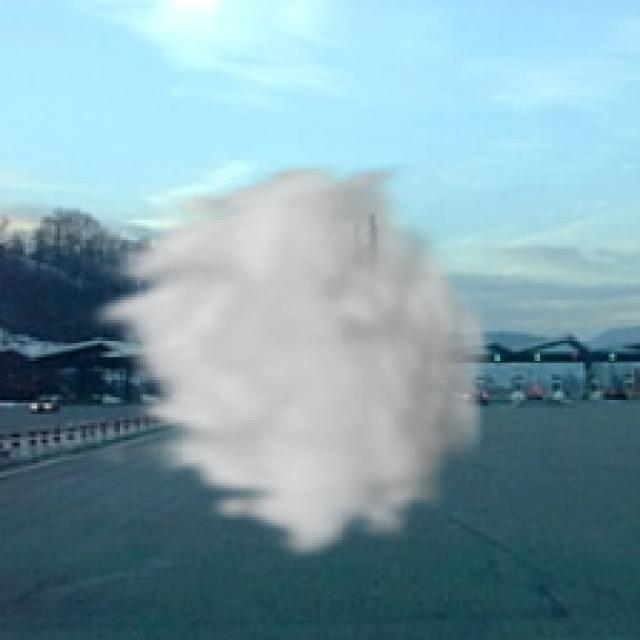smoke: (77, 160, 500, 563)
